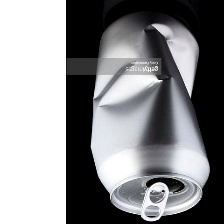can: (79, 5, 213, 223)
